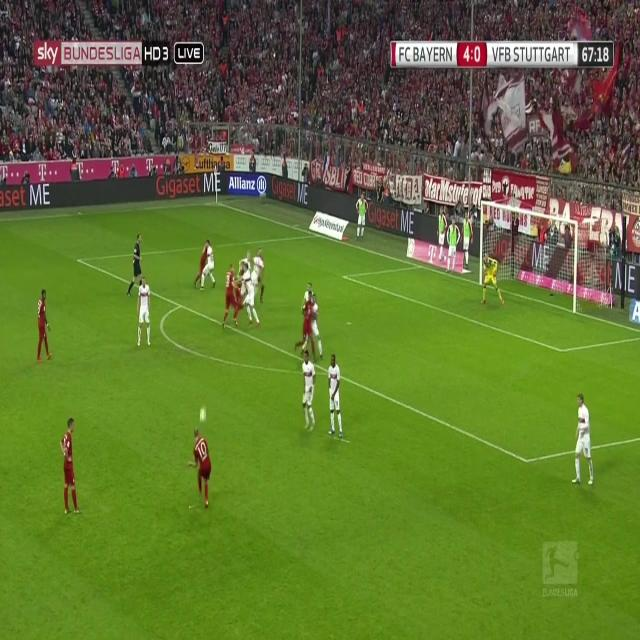Ball: (196, 402, 208, 425)
Goalkeeper: (479, 252, 506, 309)
Player: (573, 392, 597, 490), (57, 415, 78, 519), (187, 428, 213, 510), (34, 284, 55, 372), (326, 351, 343, 443), (292, 294, 316, 358), (217, 261, 238, 331), (302, 346, 318, 437), (134, 276, 152, 352), (243, 262, 262, 332), (199, 238, 217, 294), (250, 245, 265, 291)
Referee: (123, 230, 146, 302)
